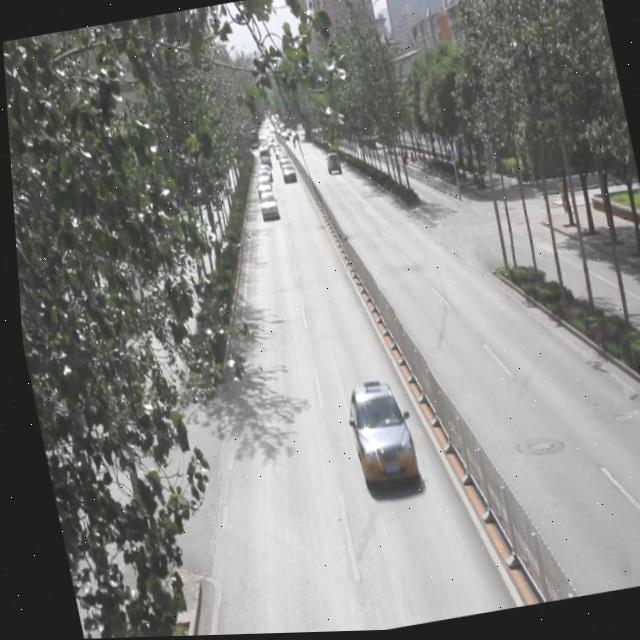car: (336, 378, 413, 493), (254, 192, 275, 223)
